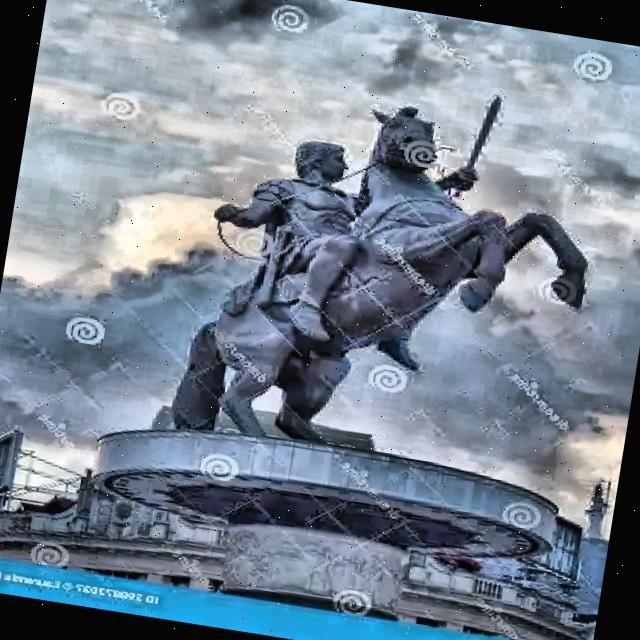alexander the great monument: (67, 38, 639, 640)
